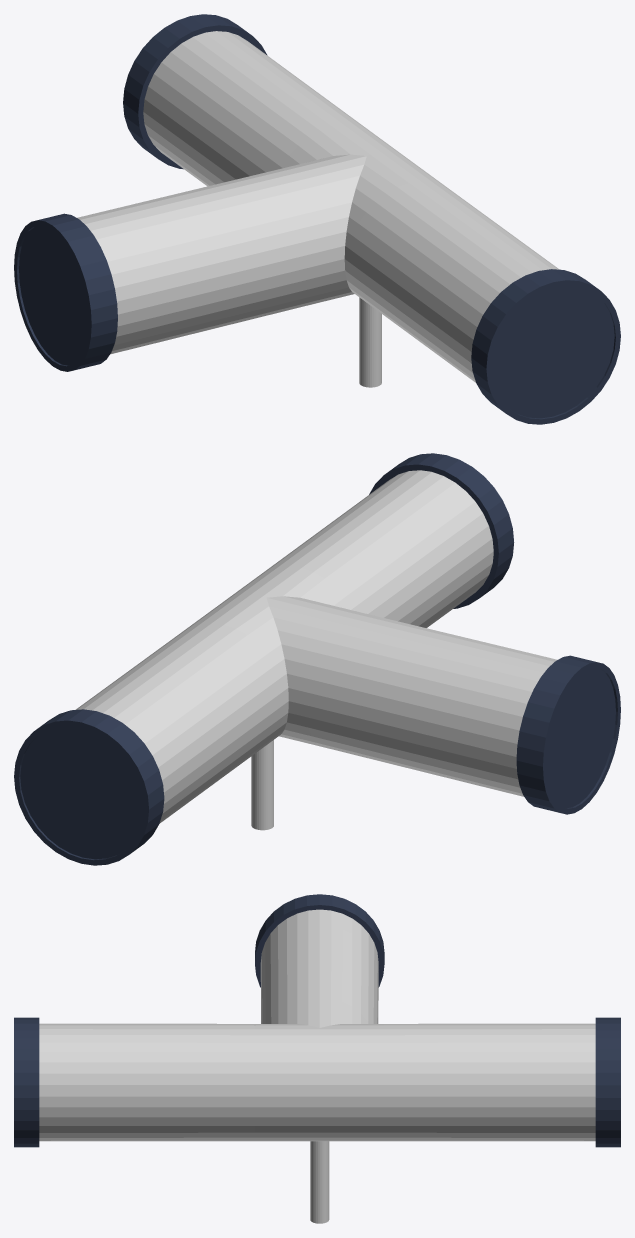
Rendered from Pipesegment_3-jointed_blank.fbx.
3 views of the same model, one above another, from view 1: azimuth 30°, elevation 25°; view 2: azimuth 150°, elevation 25°; view 3: azimuth 270°, elevation 25° (orthographic). The views are drawn at different scales.
Parts seen in each view (by area): view 1: Pipe-Segment_straight.001, Pipe-foot.001; view 2: Pipe-Segment_straight.001, Pipe-foot.001; view 3: Pipe-Segment_straight.001, Pipe-foot.001.
Boxes of the visible parts, x1,y1,x2,y2 form: Pipe-Segment_straight.001: (14,14,620,424); Pipe-foot.001: (359,297,381,387); Pipe-Segment_straight.001: (14,453,620,865); Pipe-foot.001: (251,740,273,830); Pipe-Segment_straight.001: (14,894,620,1147); Pipe-foot.001: (310,1141,329,1223).
Size of the model in its own units: 315 by 183 by 515.
